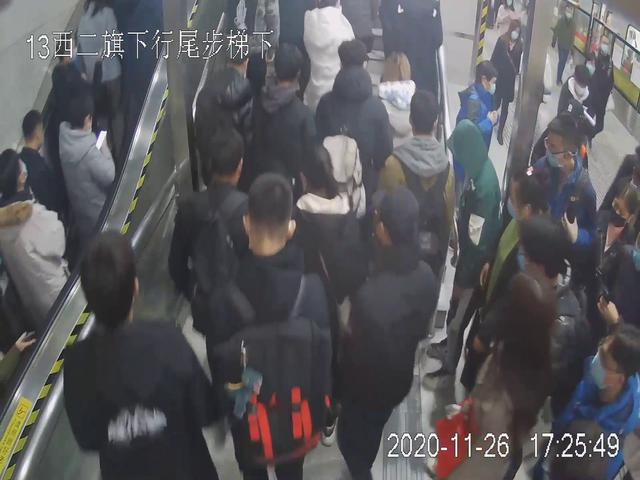person: (199, 169, 347, 480), (59, 231, 222, 480), (347, 185, 447, 480), (167, 125, 272, 397), (424, 118, 506, 374), (46, 85, 129, 244), (453, 59, 504, 273), (488, 20, 524, 148)
